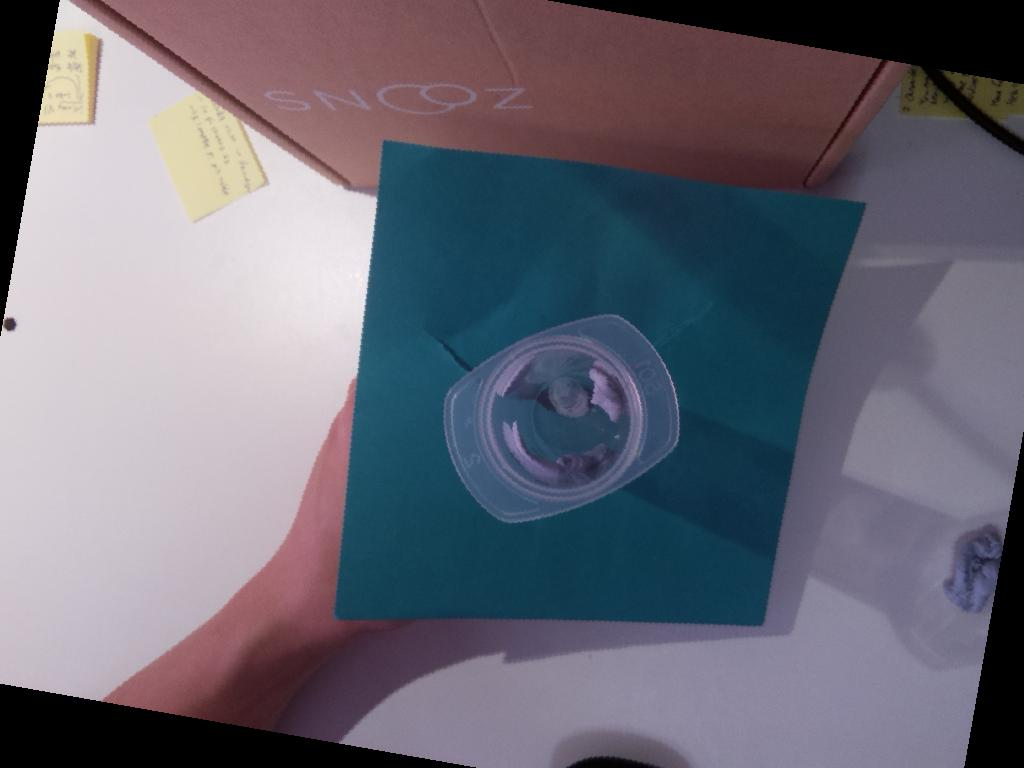dirty: (443, 313, 679, 523)
